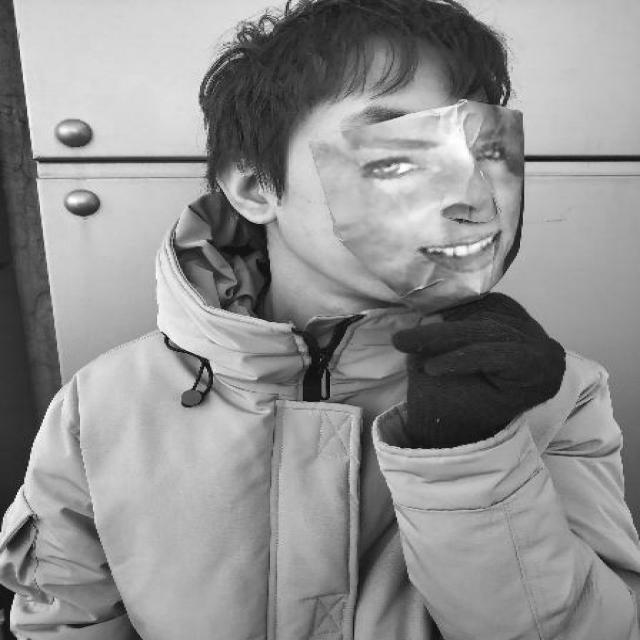fake: (362, 110, 512, 294)
